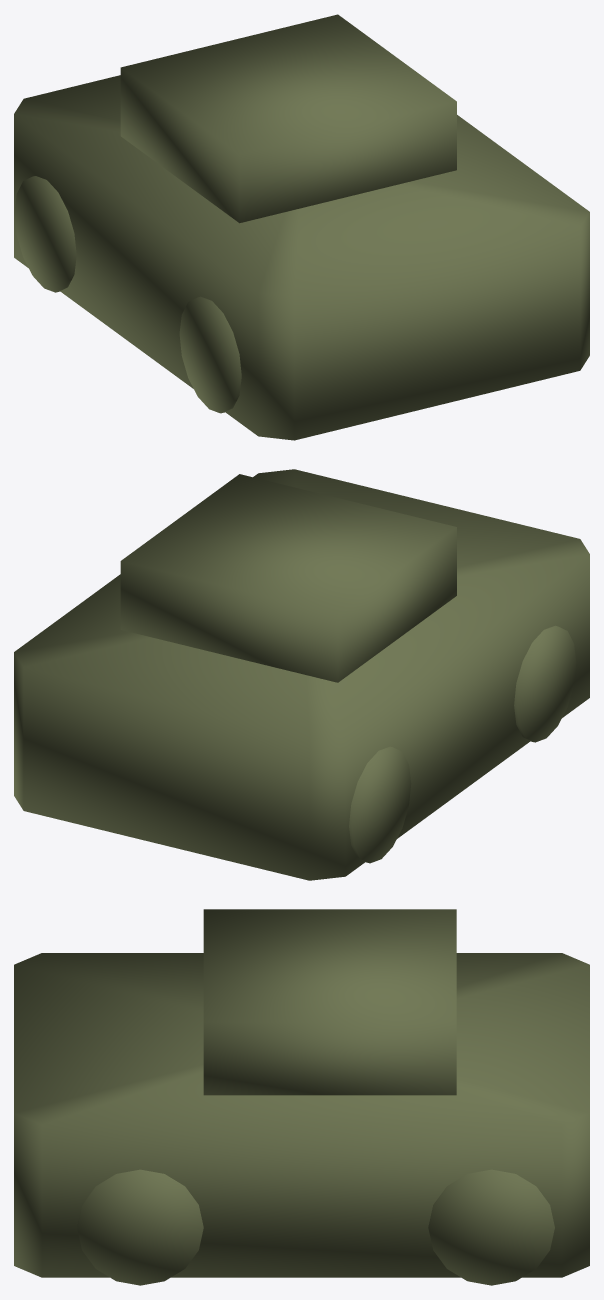
Rendered from scout_rover_lod1.obj.
3 renders of one model, top to bottom at view 1: azimuth 30°, elevation 25°; view 2: azimuth 150°, elevation 25°; view 3: azimuth 270°, elevation 25°, orthographic. The views are drawn at different scales.
Parts seen in each view (by area): view 1: scout_rover_lod1; view 2: scout_rover_lod1; view 3: scout_rover_lod1.
Boxes of the visible parts, x1,y1,x2,y2 form: scout_rover_lod1: (14, 14, 589, 440); scout_rover_lod1: (14, 469, 589, 880); scout_rover_lod1: (14, 909, 589, 1285).
Size of the model in its own units: 2.95 by 1.83 by 4.1.
